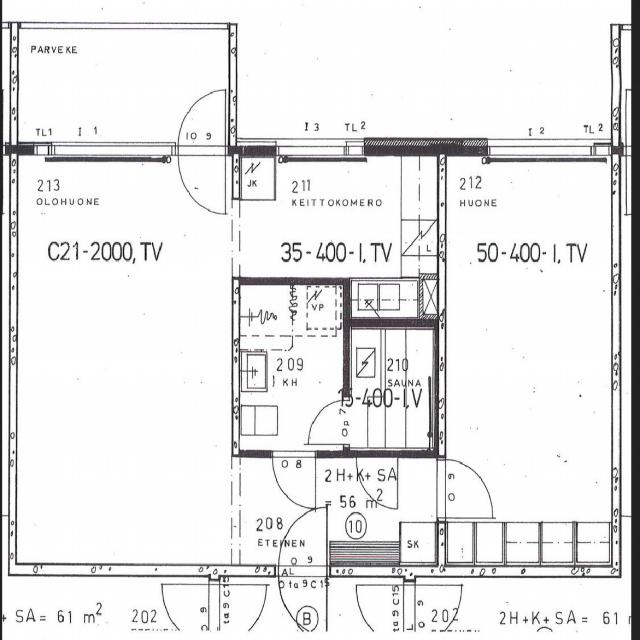door: (278, 564, 327, 636), (278, 505, 327, 577), (178, 145, 225, 213), (178, 87, 225, 155), (437, 460, 492, 517), (272, 450, 316, 510), (307, 400, 349, 444)
